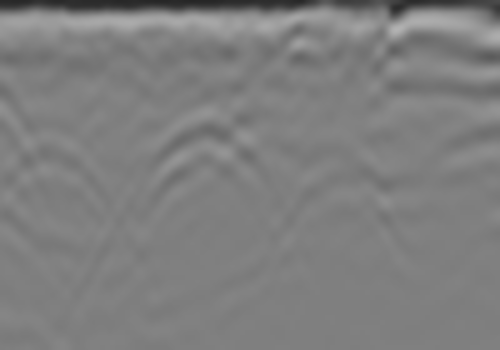hyperbola: (79, 112, 316, 329), (3, 130, 156, 283), (261, 158, 426, 290)
